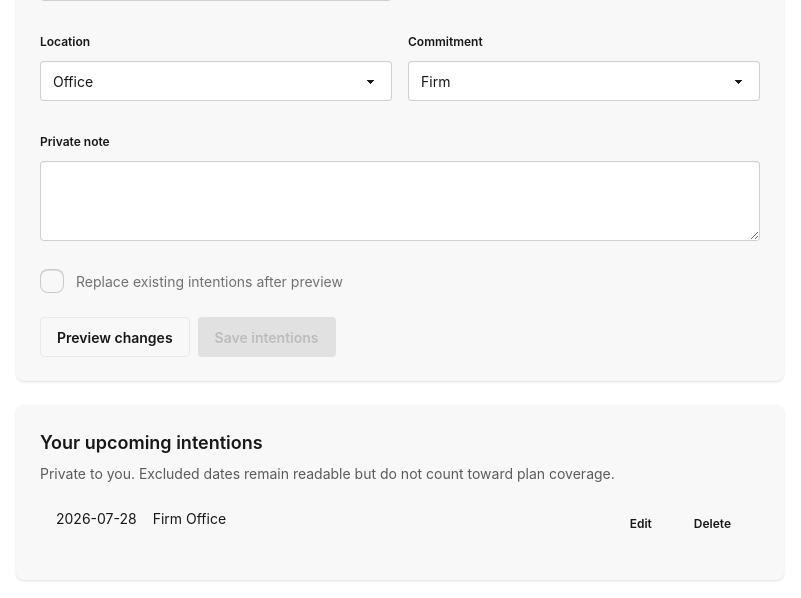
Test: Phase 3 page contracts › renders private plan coverage and preview workflow
This screenshot has width=801, height=598.
(page scrolled)
Expected: the text "Firm Office" is shown, [153,510,226,527]
Click the button "Preview changes": (115, 337) [40,317,190,357]
(page scrolled)
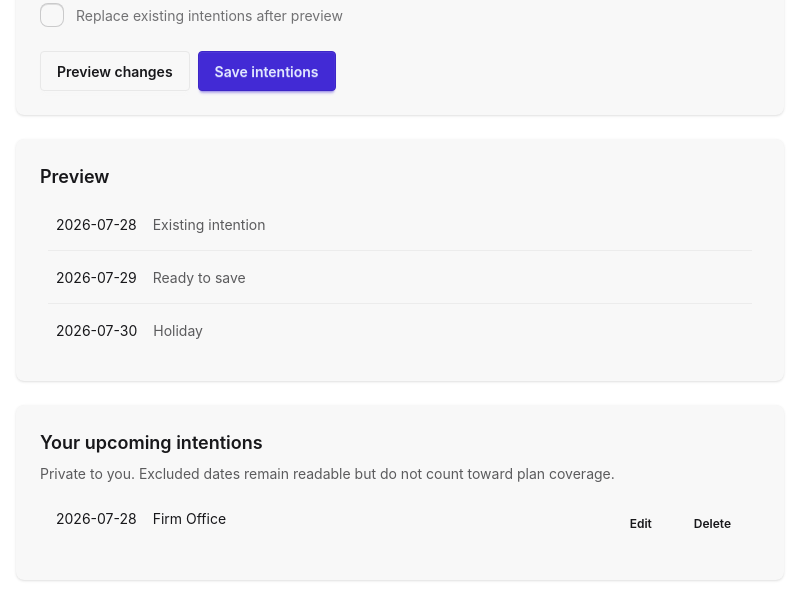
Expected: the heading "Your upcoming intentions" is shown, [40,432,263,453]
Result: the heading "Preview" is shown at [40,166,109,187]
